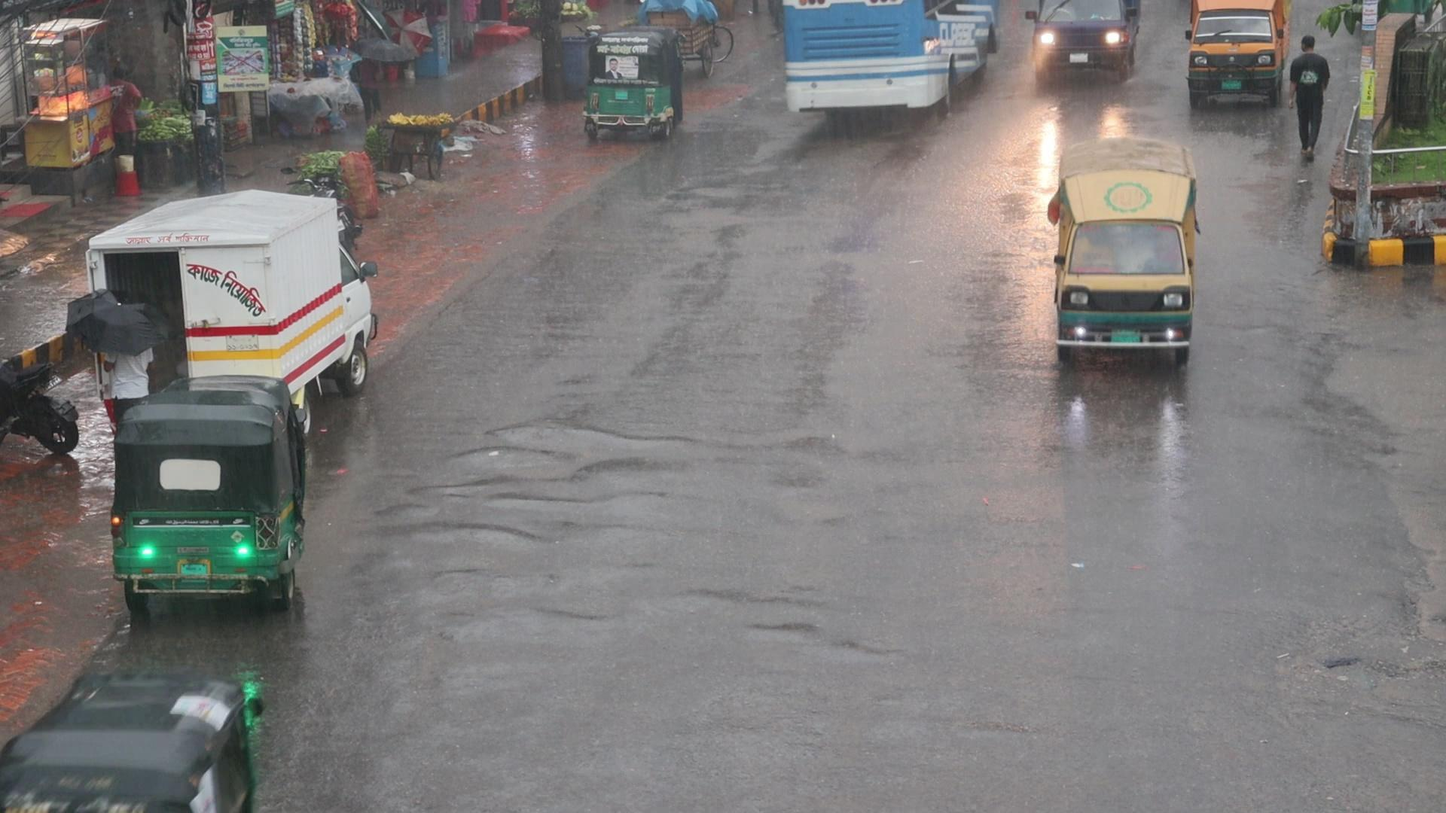Bus: (779, 0, 1006, 120)
Truck: (1048, 136, 1201, 373), (1184, 0, 1288, 123), (1026, 0, 1141, 85)
